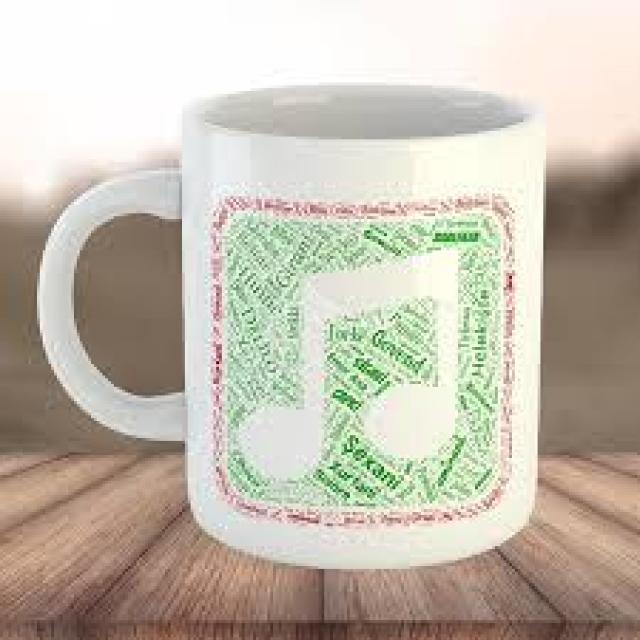taza: (36, 79, 548, 569)
